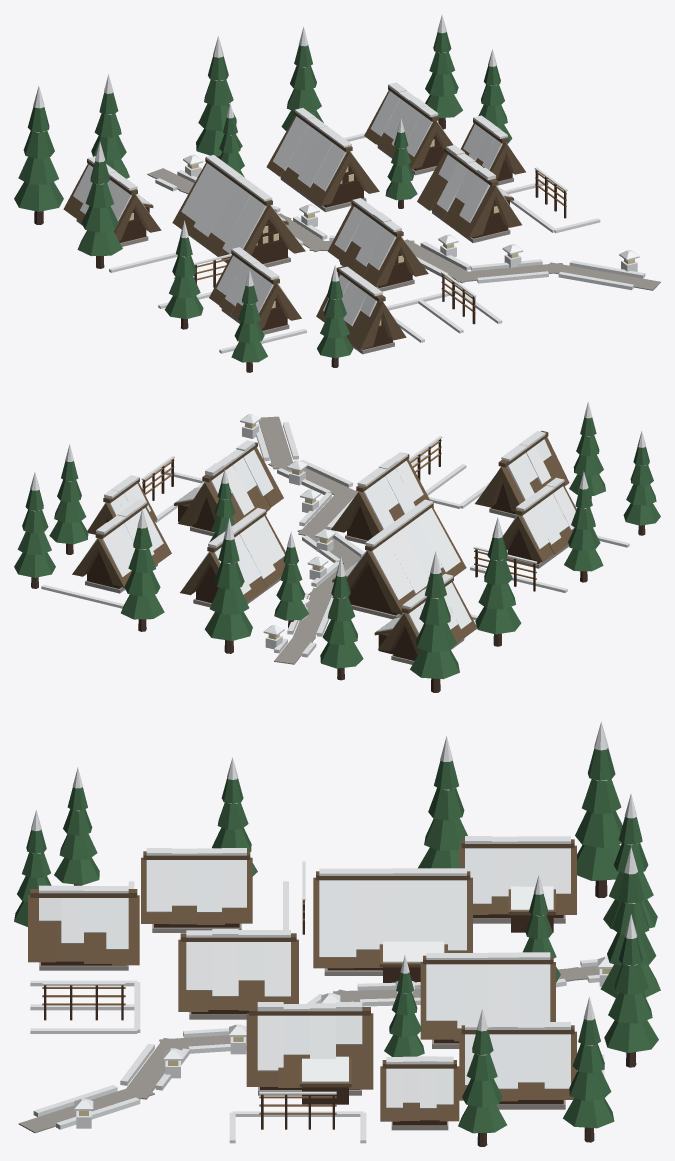
Rendered from shirakawa-go.glb.
The picture shows the model from 3 angles, top to bottom: view 1: azimuth 30°, elevation 25°; view 2: azimuth 150°, elevation 25°; view 3: azimuth 270°, elevation 25°; orthographic projection. The views are drawn at different scales.
Visible parts, largest first — view 1: shirakawago_snow, shirakawago_cedar, shirakawago_thatch, shirakawago_stone, shirakawago_darkwood, shirakawago_wood, shirakawago_bark; view 2: shirakawago_snow, shirakawago_cedar, shirakawago_thatch, shirakawago_stone, shirakawago_darkwood, shirakawago_bark, shirakawago_wood; view 3: shirakawago_snow, shirakawago_cedar, shirakawago_thatch, shirakawago_stone, shirakawago_darkwood, shirakawago_wood, shirakawago_bark.
Boxes of the visible parts, <box> form: shirakawago_snow: <box>33,14,645,353</box>; shirakawago_cedar: <box>14,32,512,362</box>; shirakawago_thatch: <box>63,85,525,349</box>; shirakawago_stone: <box>76,145,660,354</box>; shirakawago_darkwood: <box>119,135,566,349</box>; shirakawago_wood: <box>174,171,566,312</box>; shirakawago_bark: <box>34,118,445,372</box>; shirakawago_snow: <box>30,401,645,657</box>; shirakawago_cedar: <box>14,417,660,679</box>; shirakawago_thatch: <box>72,430,576,655</box>; shirakawago_stone: <box>85,416,569,664</box>; shirakawago_darkwood: <box>87,439,540,660</box>; shirakawago_bark: <box>31,496,645,692</box>; shirakawago_wood: <box>142,440,536,579</box>; shirakawago_snow: <box>30,721,638,1143</box>; shirakawago_cedar: <box>14,748,660,1133</box>; shirakawago_thatch: <box>28,839,576,1121</box>; shirakawago_stone: <box>18,915,599,1133</box>; shirakawago_darkwood: <box>41,900,563,1129</box>; shirakawago_wood: <box>42,902,336,1114</box>; shirakawago_bark: <box>74,880,636,1146</box>.
Size of the model in its own units: 21.87 by 6.49 by 21.76.
